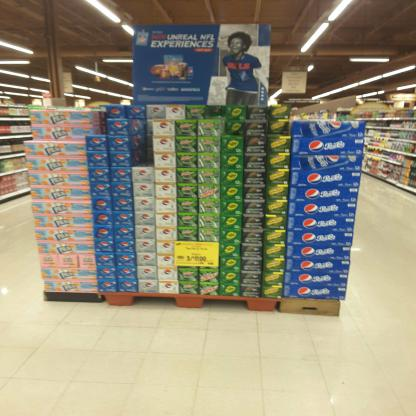Void: (292, 105, 362, 120), (132, 120, 153, 164), (66, 110, 107, 132)
